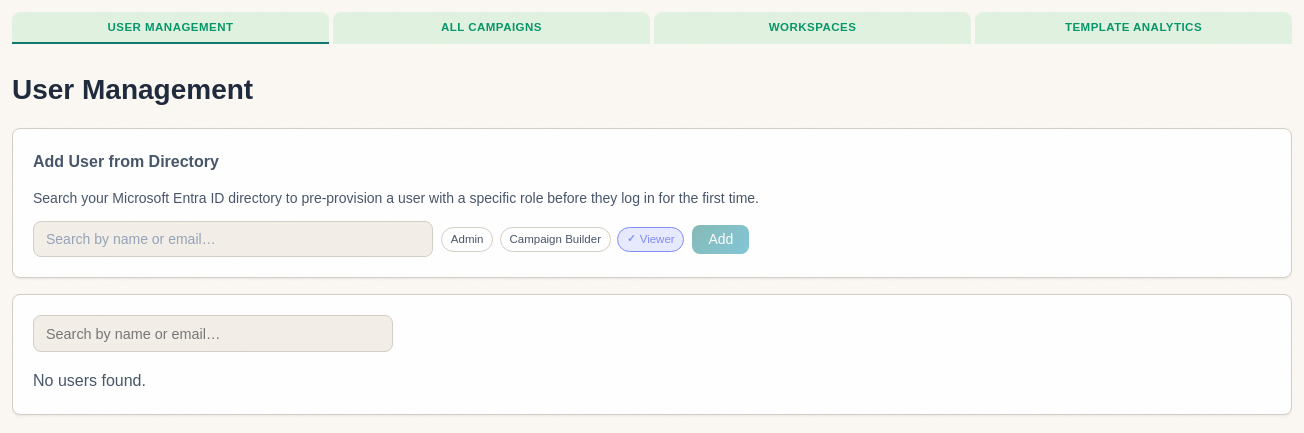
Test: Admin workspaces tab › does not show action button for personal workspaces
Click the button "Workspaces".
click(812, 28)  # box 654,12 -> 971,44
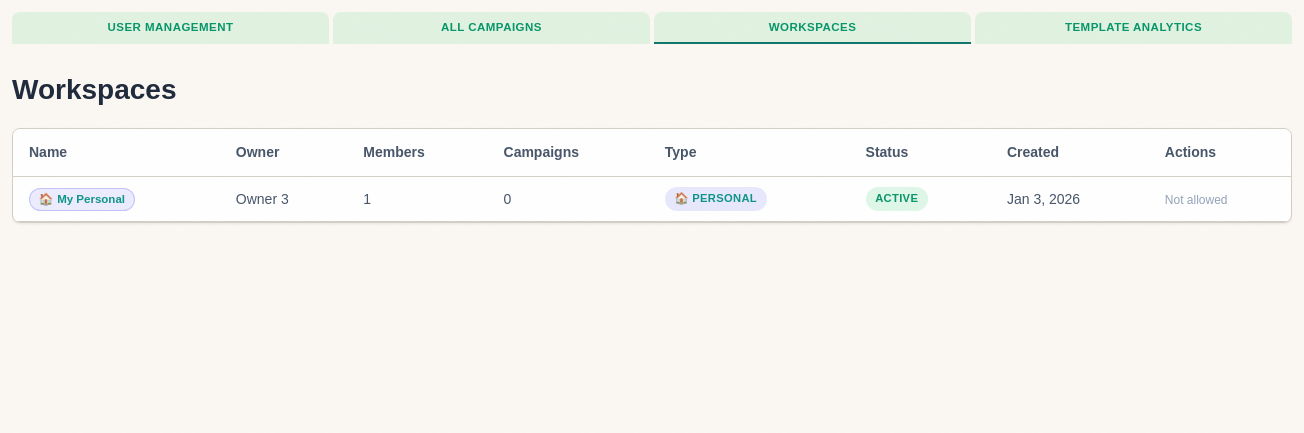
Expected: the text "Not allowed" is shown, 1165,193 -> 1228,207
